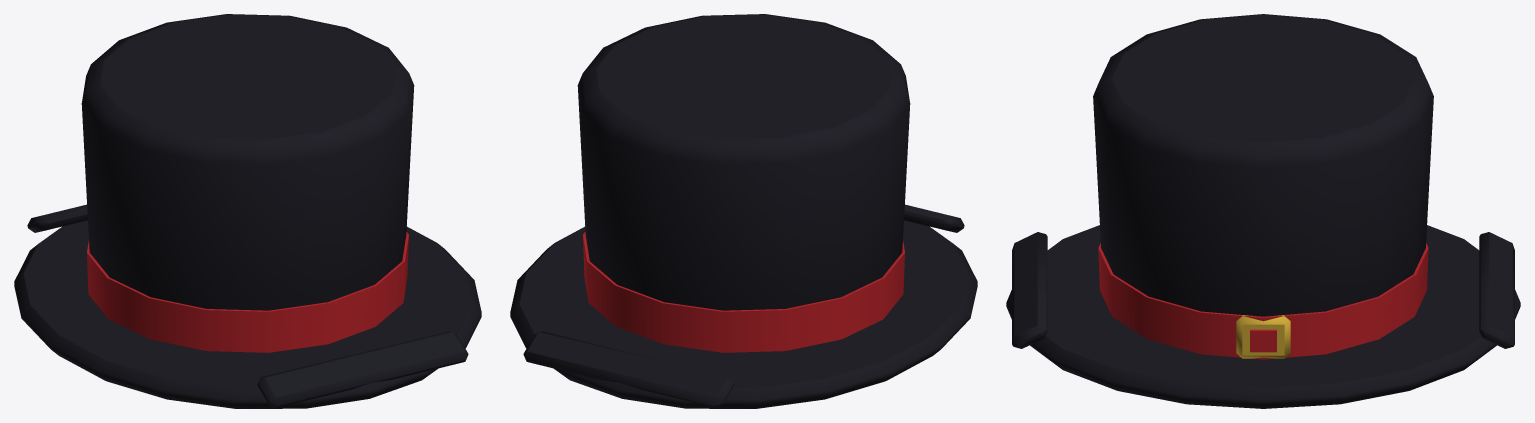
File: hat-tophat.glb
3 renders of one model, left to right at view 1: azimuth 30°, elevation 25°; view 2: azimuth 150°, elevation 25°; view 3: azimuth 270°, elevation 25°, orthographic.
Parts seen in each view (by area): view 1: Hat; view 2: Hat; view 3: Hat.
Boxes of the visible parts, box(x1,y1,x2,y2) form: Hat: box(14, 14, 481, 408); Hat: box(510, 14, 977, 408); Hat: box(1006, 14, 1520, 408).
Bounding box in the file's own units: 0.594 × 0.335 × 0.66.
